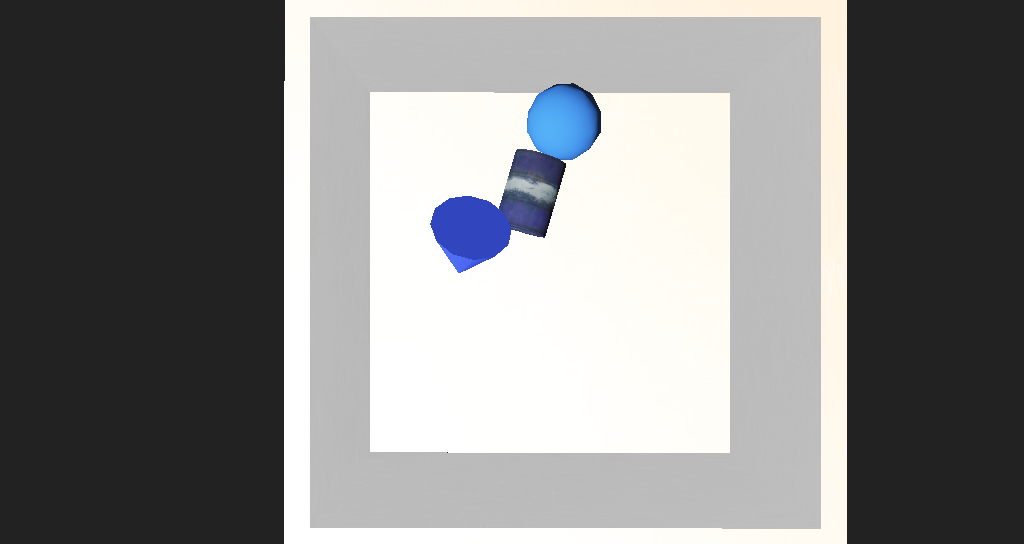cone: (461, 191, 522, 248)
cylinder: (381, 217, 482, 298)
sphere: (488, 160, 549, 203)
